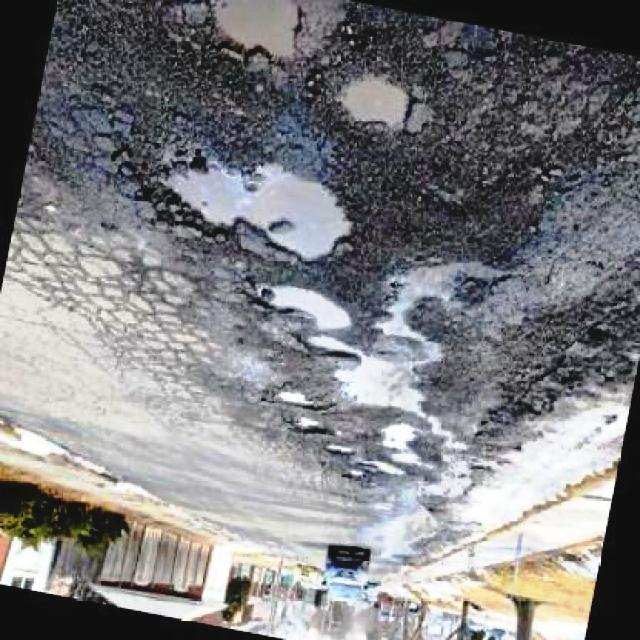pothole: (143, 149, 357, 266), (371, 252, 514, 337), (191, 0, 320, 72), (334, 348, 429, 414), (337, 66, 415, 136), (247, 278, 356, 328), (378, 420, 431, 471), (300, 335, 362, 374), (268, 380, 329, 409)
